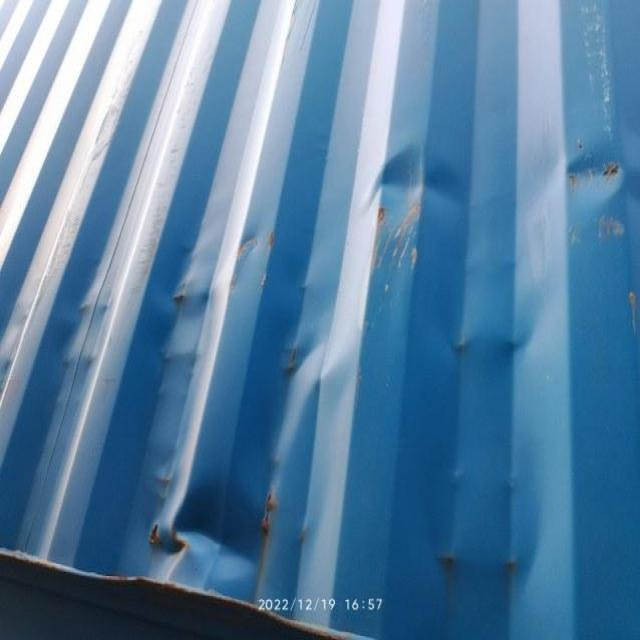Minor-Dent: (137, 495, 289, 581), (366, 146, 463, 229), (562, 150, 627, 197)
